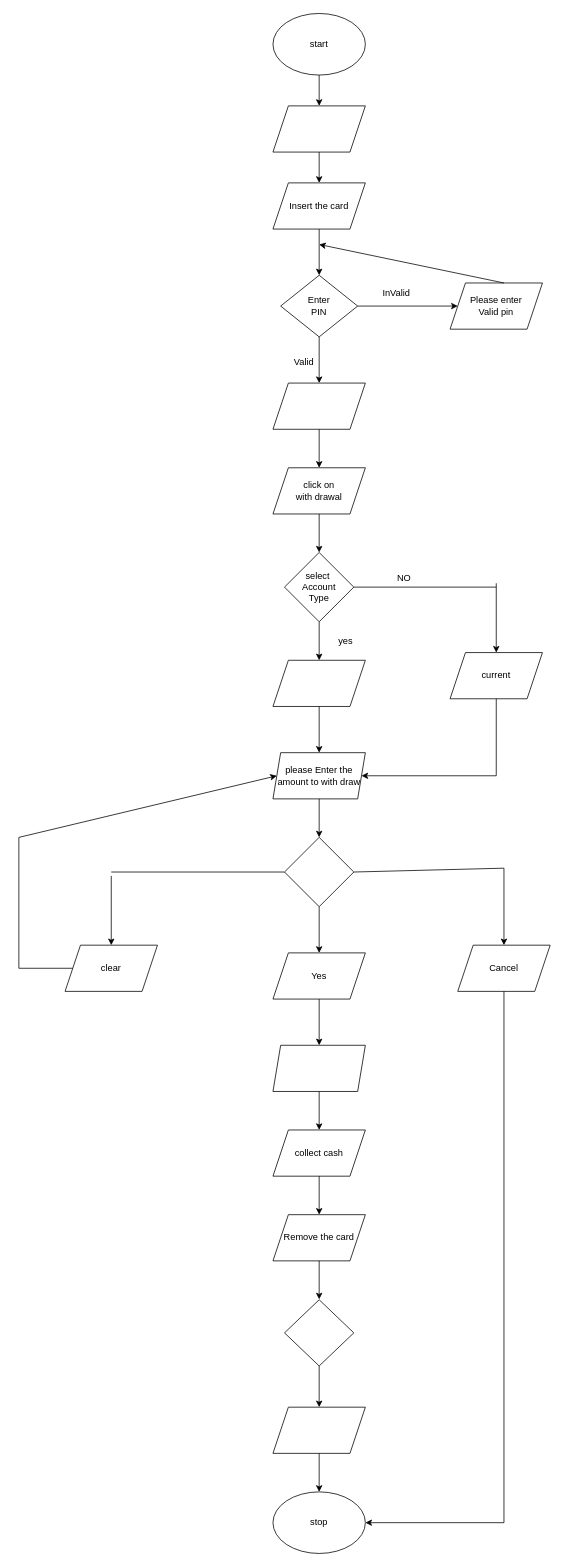
Some shapes in this 564 by 1567 pixel diagram are drawn without their labels. Here are the shapes that lost their labels. From the top down, the centre of each, then its label:
At (x=318, y=128): "Go to ATM".
At (x=318, y=405): "Click on Banking".
At (x=318, y=683): "Savings".
At (x=319, y=872): "confirm amount".
At (x=318, y=1068): "Processing the transaction".
At (x=319, y=1332): "check remaining balance".
At (x=318, y=1429): "print Remaining amount".
